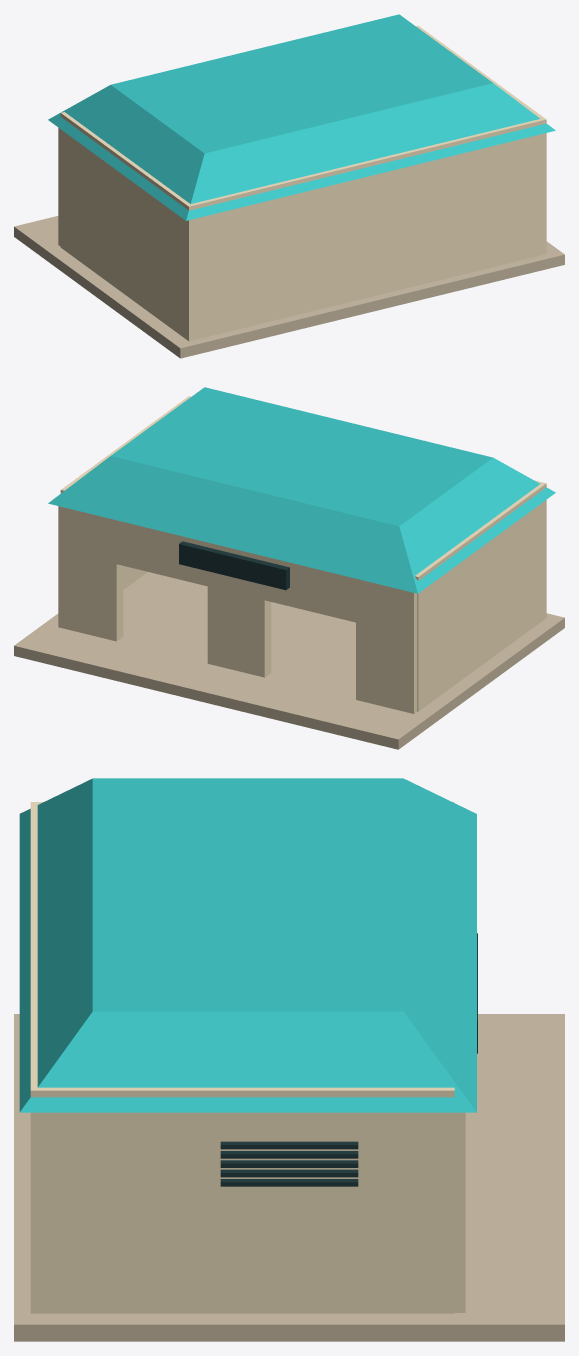
File: restroom_building.fbx
3 views of the same model, one above another, from view 1: azimuth 30°, elevation 25°; view 2: azimuth 150°, elevation 25°; view 3: azimuth 270°, elevation 25° (orthographic). The views are drawn at different scales.
Parts seen in each view (by area): view 1: restroom_building; view 2: restroom_building; view 3: restroom_building.
Boxes of the visible parts, x1=… form: restroom_building: x1=14, y1=14, x2=564, y2=358; restroom_building: x1=14, y1=387, x2=564, y2=749; restroom_building: x1=14, y1=778, x2=564, y2=1341.
Bounding box in the file's own units: 8 × 3.5 × 6.
